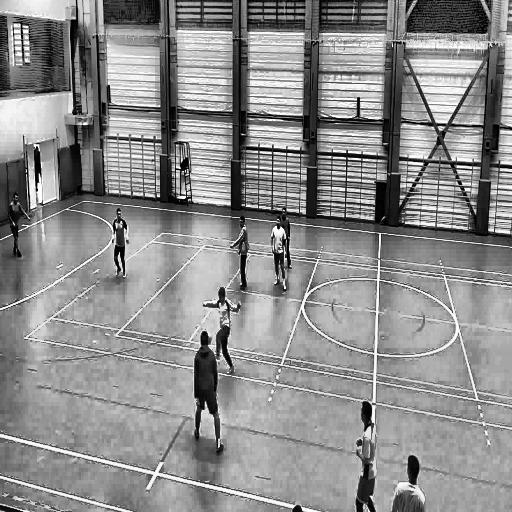ball: (206, 330, 212, 344)
player: (190, 332, 225, 457), (349, 397, 382, 512), (202, 286, 242, 376), (390, 454, 425, 512), (230, 212, 252, 292), (8, 189, 32, 258), (110, 204, 131, 281), (270, 216, 289, 296), (280, 207, 292, 269)
